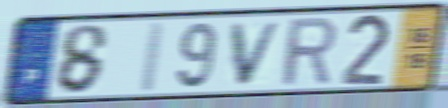2: (340, 12, 391, 87)
8: (56, 23, 110, 96)
9: (174, 21, 217, 90)
I: (136, 19, 169, 95)
R: (280, 14, 338, 89)
V: (229, 19, 286, 88)
